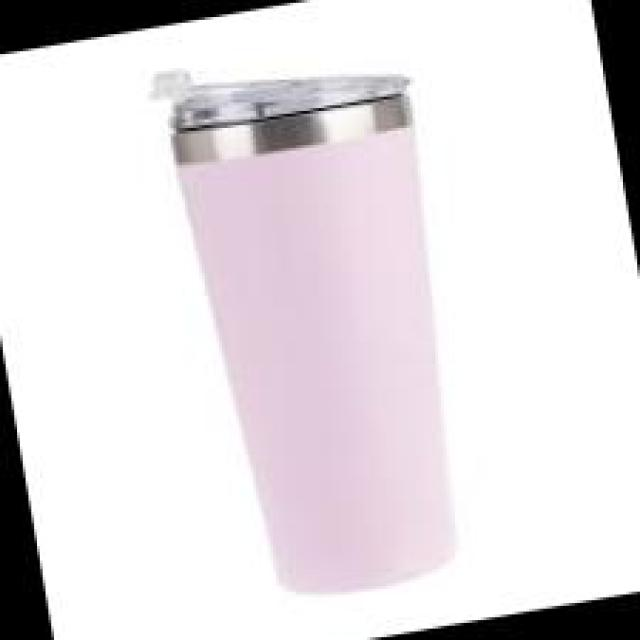bottle: (142, 26, 501, 617)
